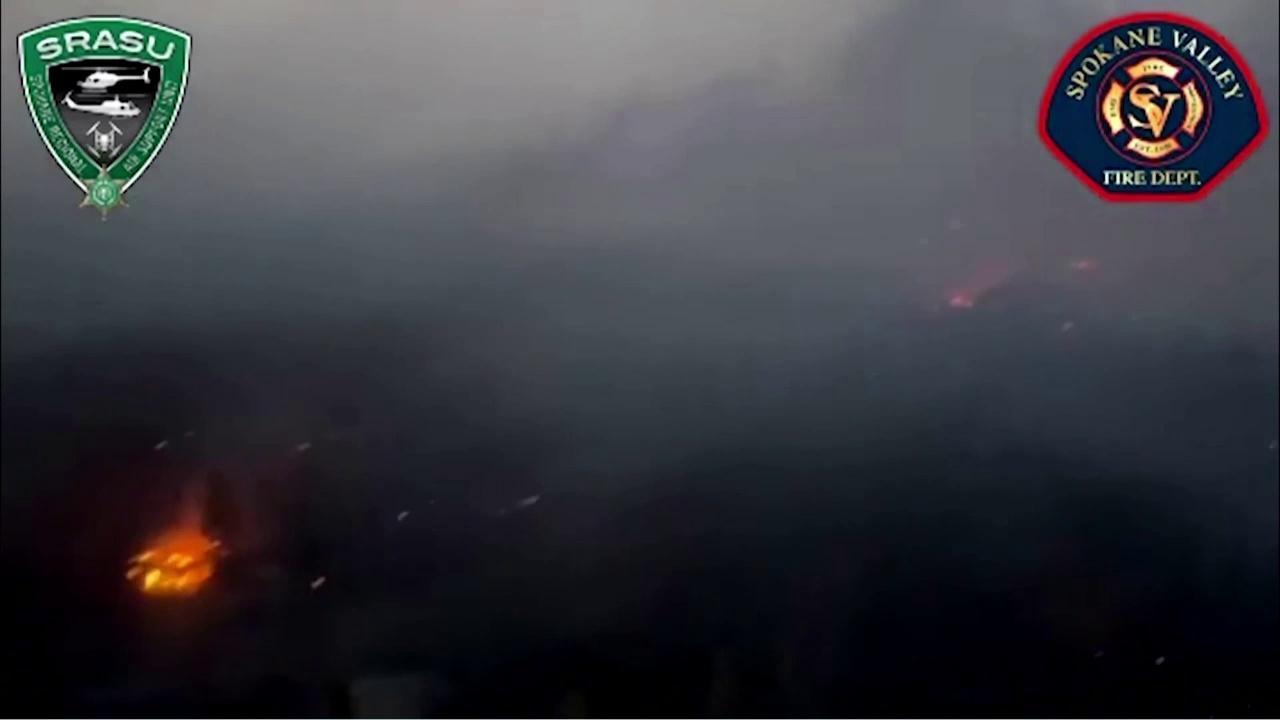fire: (116, 468, 235, 609), (943, 289, 977, 311), (1066, 255, 1095, 272)
smoke: (3, 0, 1280, 673)
